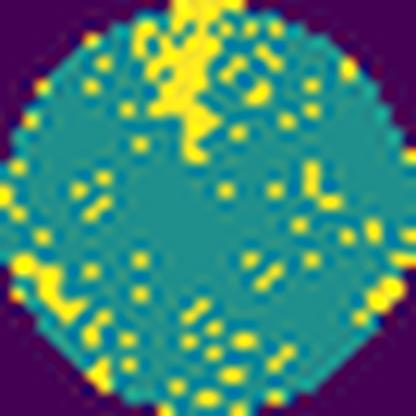Loc: (132, 0, 247, 164)
